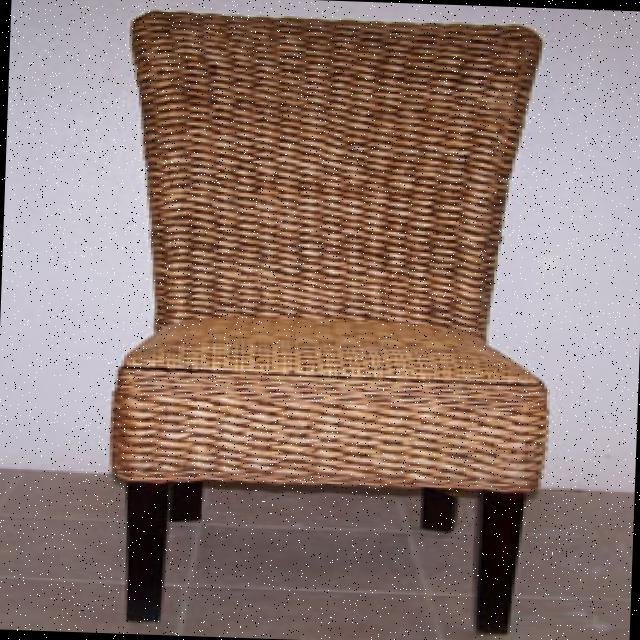Chair: (53, 0, 604, 640)
